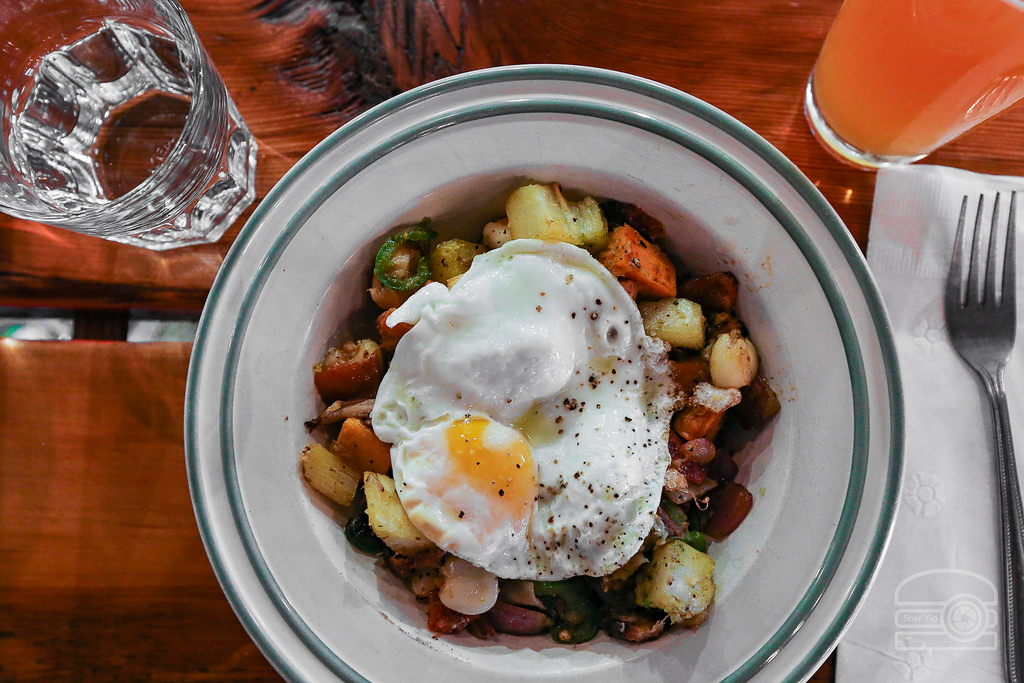fried egg: (381, 264, 665, 574)
